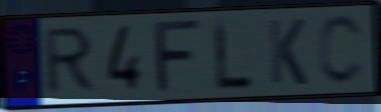4: (106, 22, 145, 95)
C: (317, 13, 367, 88)
F: (154, 17, 205, 96)
K: (267, 17, 309, 88)
L: (211, 17, 255, 93)
R: (44, 25, 99, 98)
